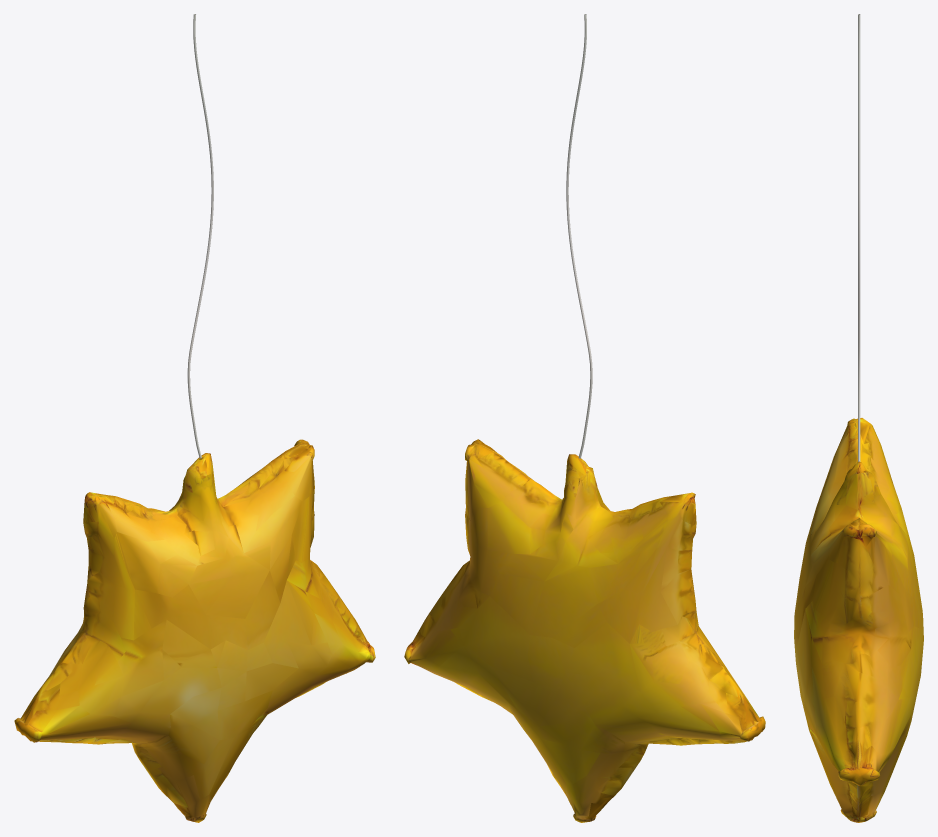
Rendered from Balloon_Star.fbx.
The picture shows the model from 3 angles, left to right: view 1: azimuth 30°, elevation 25°; view 2: azimuth 150°, elevation 25°; view 3: azimuth 270°, elevation 25°; orthographic projection.
Visible parts, largest first — view 1: Star Balloon; view 2: Star Balloon; view 3: Star Balloon.
Boxes of the visible parts, bbox=[...] form: Star Balloon: bbox=[14, 14, 375, 822]; Star Balloon: bbox=[404, 14, 765, 822]; Star Balloon: bbox=[794, 14, 923, 822].
Size of the model in its own units: 0.4504 by 0.9914 by 0.1448.
